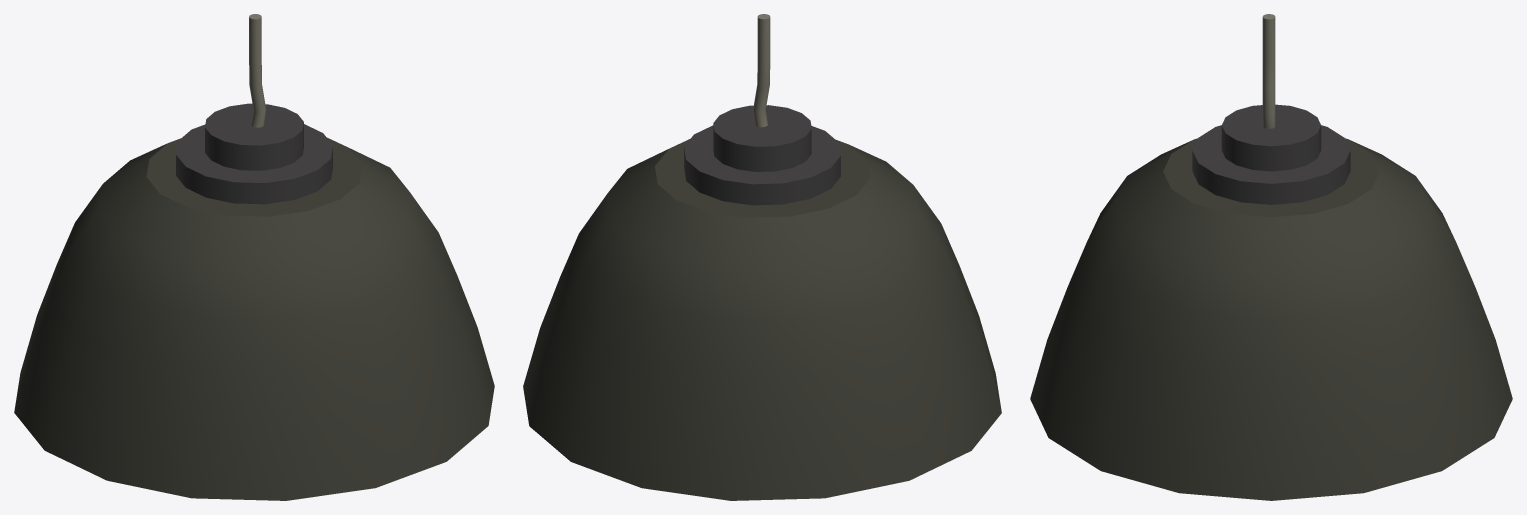
The model's file is Avize.fbx.
3 renders of one model, left to right at view 1: azimuth 30°, elevation 25°; view 2: azimuth 150°, elevation 25°; view 3: azimuth 270°, elevation 25°, orthographic.
Parts seen in each view (by area): view 1: Avize; view 2: Avize; view 3: Avize.
Part boxes in pixels (left/top/right/bottom): Avize: left=14, top=14, right=494, bottom=500; Avize: left=523, top=14, right=1001, bottom=500; Avize: left=1030, top=14, right=1512, bottom=500.
Bounding box in the file's own units: 170 × 149 × 170.
